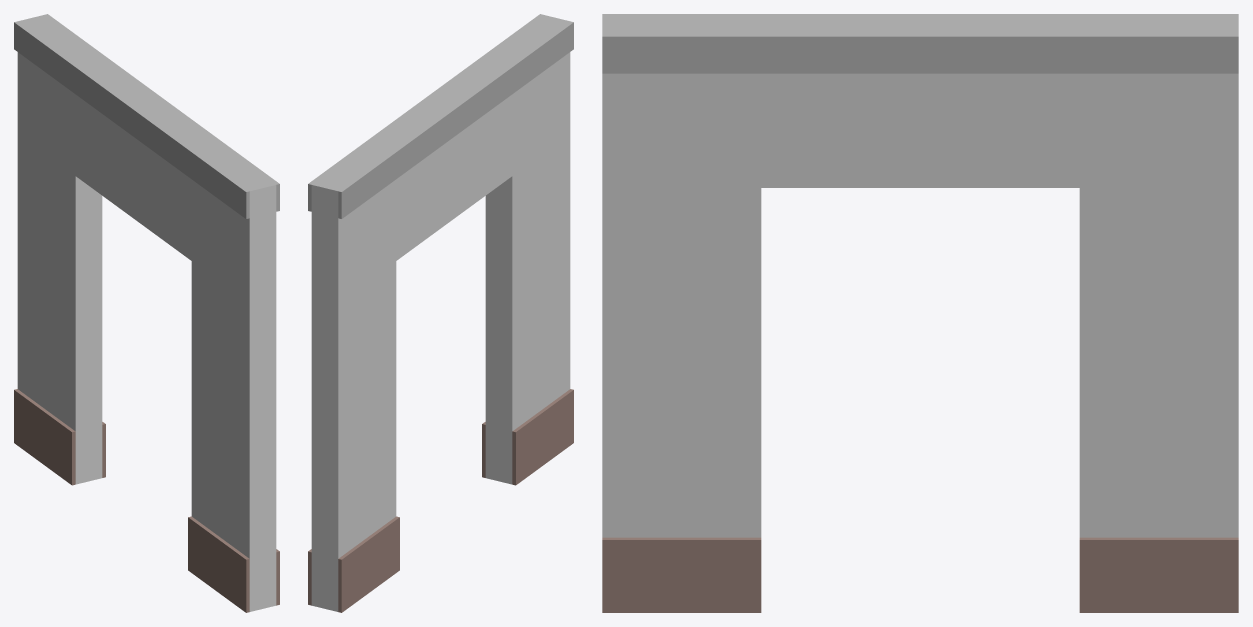
File: Wall03.fbx
3 views of the same model, side by side, from view 1: azimuth 30°, elevation 25°; view 2: azimuth 150°, elevation 25°; view 3: azimuth 270°, elevation 25° (orthographic). The views are drawn at different scales.
Parts seen in each view (by area): view 1: Wall03; view 2: Wall03; view 3: Wall03.
Part boxes in pixels (x1,y1,x2,y2): Wall03: (14, 14, 279, 612); Wall03: (308, 14, 573, 612); Wall03: (602, 14, 1238, 612).
Size of the model in its own units: 0.2519 by 3 by 3.
